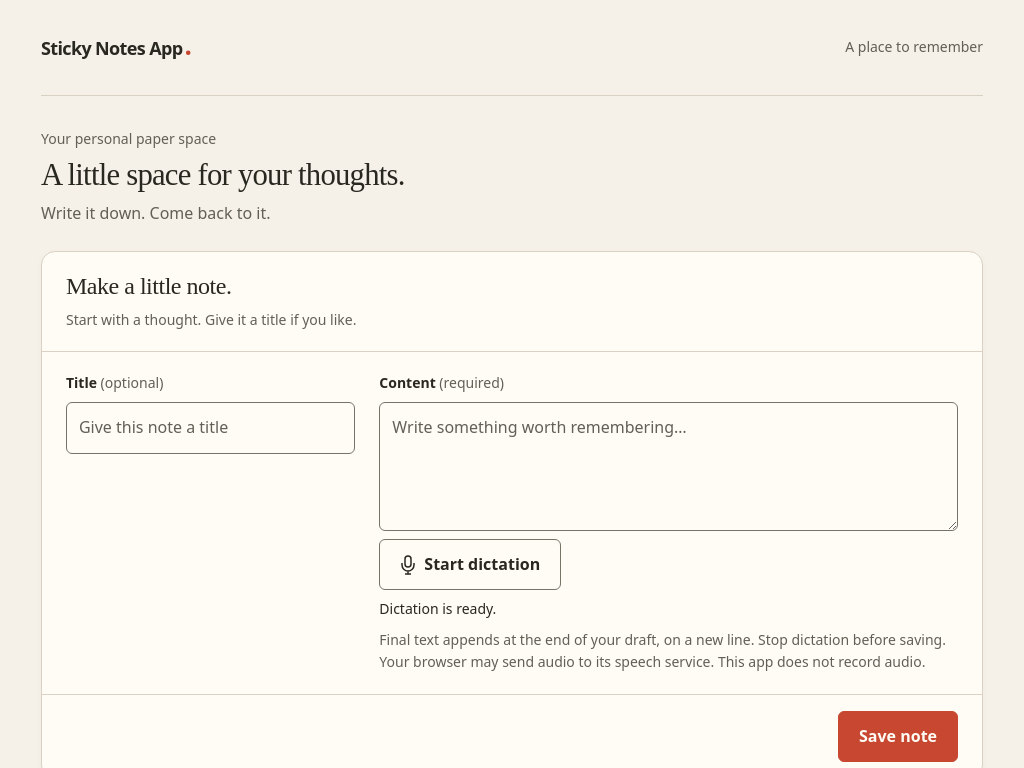
it: starts explicitly, configures the native controller, and announces actual listening
The image size is (1024, 768).
Click the button "Start dictation" at (470, 565), box 379,539 -> 561,590
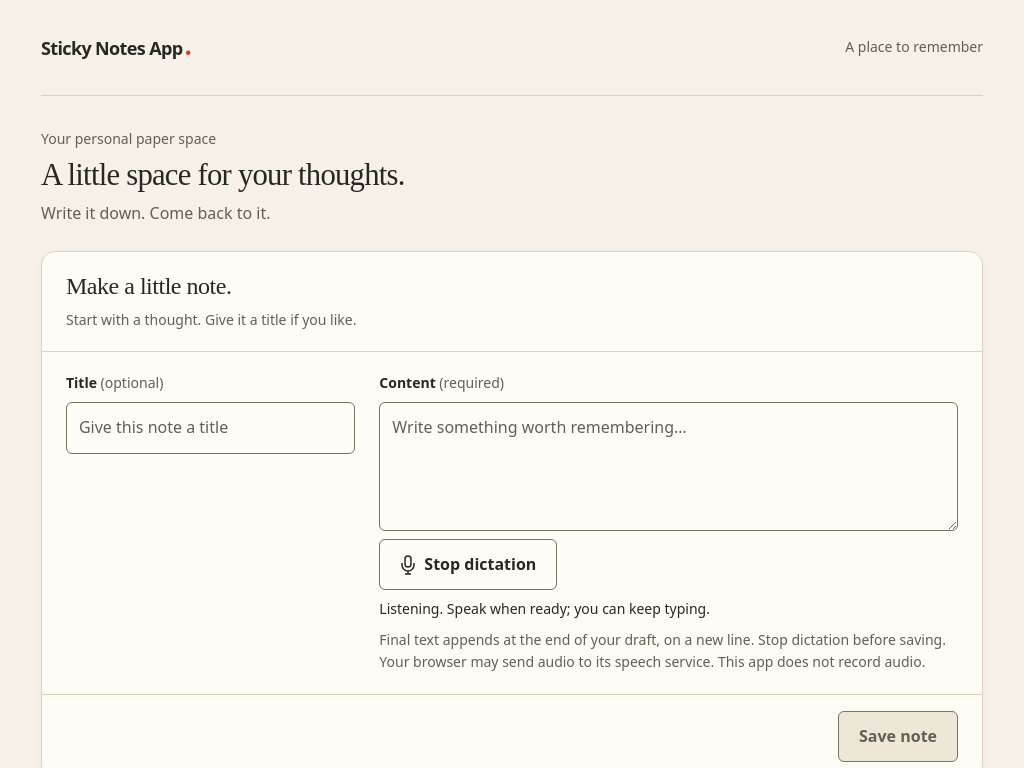
Expected: the text box labelled "Content (required)" is enabled, 379,402 -> 958,531
Expected: the button "Save note" is disabled, 838,710 -> 958,762
